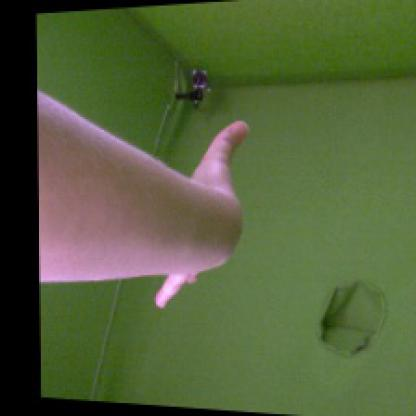Hand: (155, 120, 243, 315)
